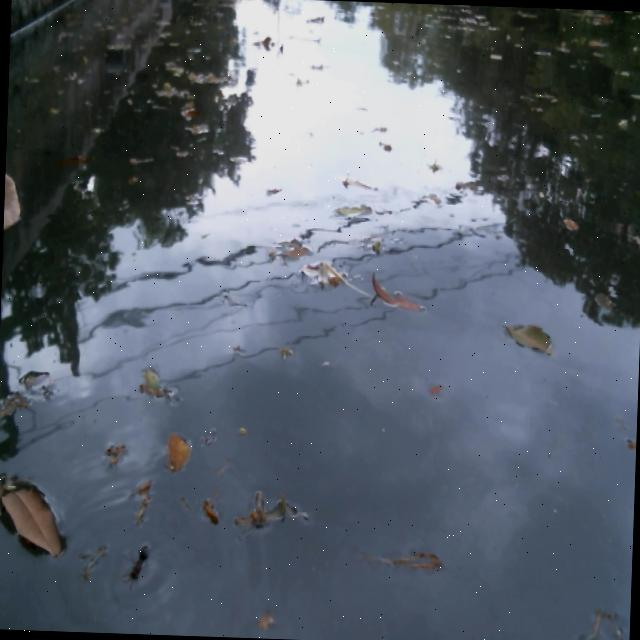Big-leaf: (3, 161, 21, 235)
Small-leaf: (0, 468, 73, 560), (485, 314, 571, 368), (352, 538, 443, 589), (366, 265, 428, 319), (159, 411, 192, 478)
